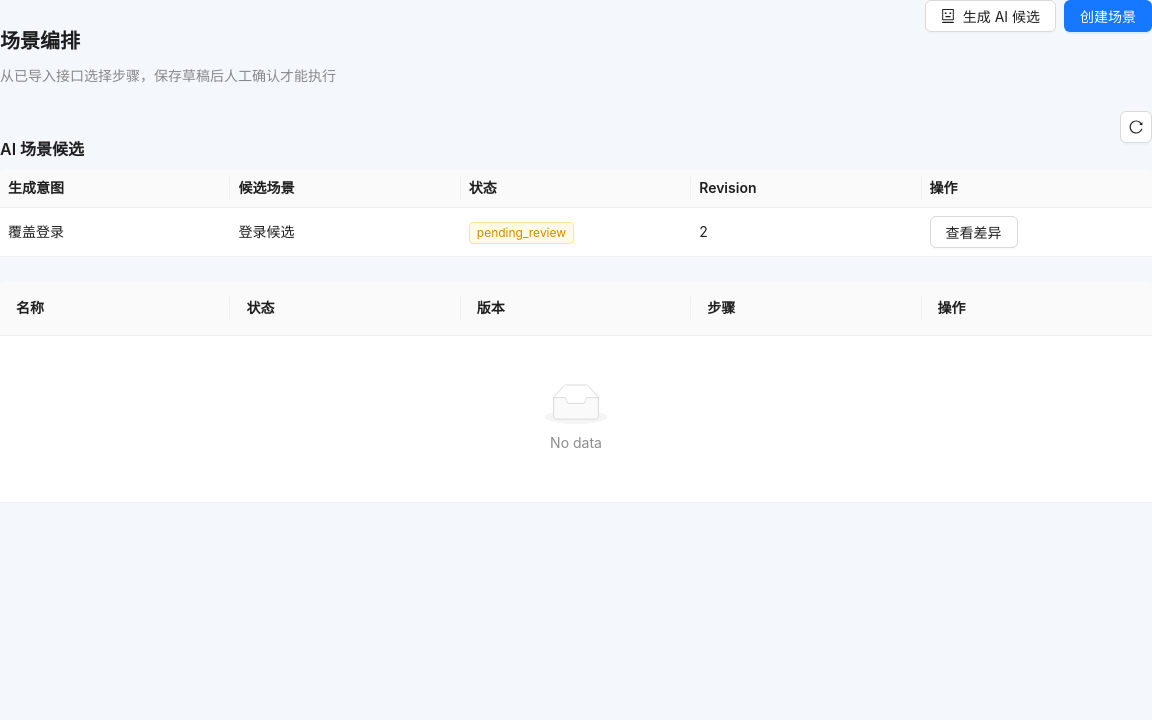
Test: ScenarioWorkspace › shows pending AI candidate differences before approval
Expected: the text "登录候选" is shown, [230, 208, 461, 257]
Click the button "查看差异" at [974, 232], box [930, 216, 1018, 248]
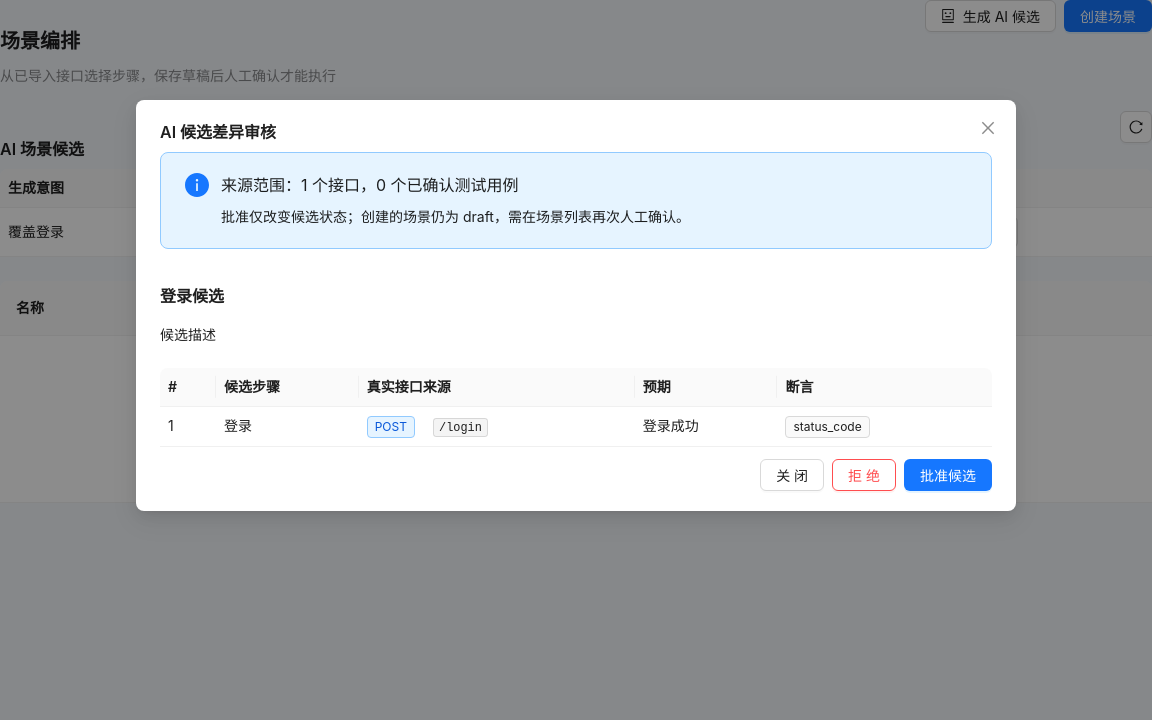
Now the text "AI 候选差异审核" is shown, box [160, 122, 276, 142]
Now the button "批准候选" is shown, box [904, 459, 992, 491]
